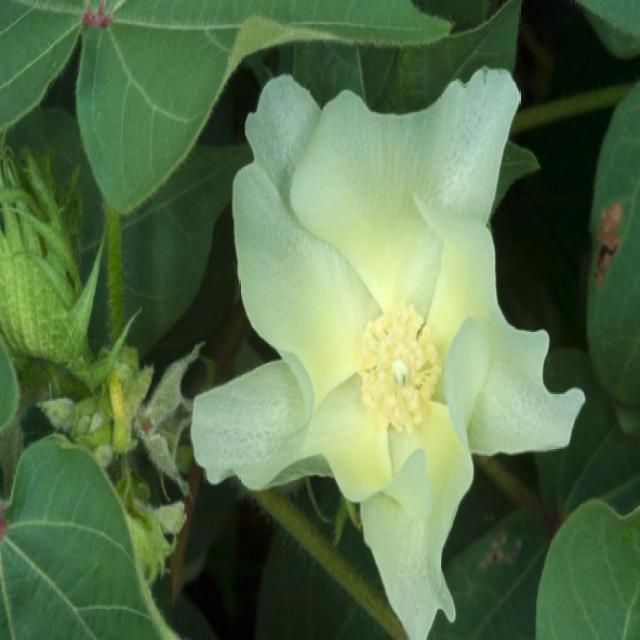Cotton Blossom: (190, 58, 584, 640)
Cotton Bud: (3, 116, 126, 372)
